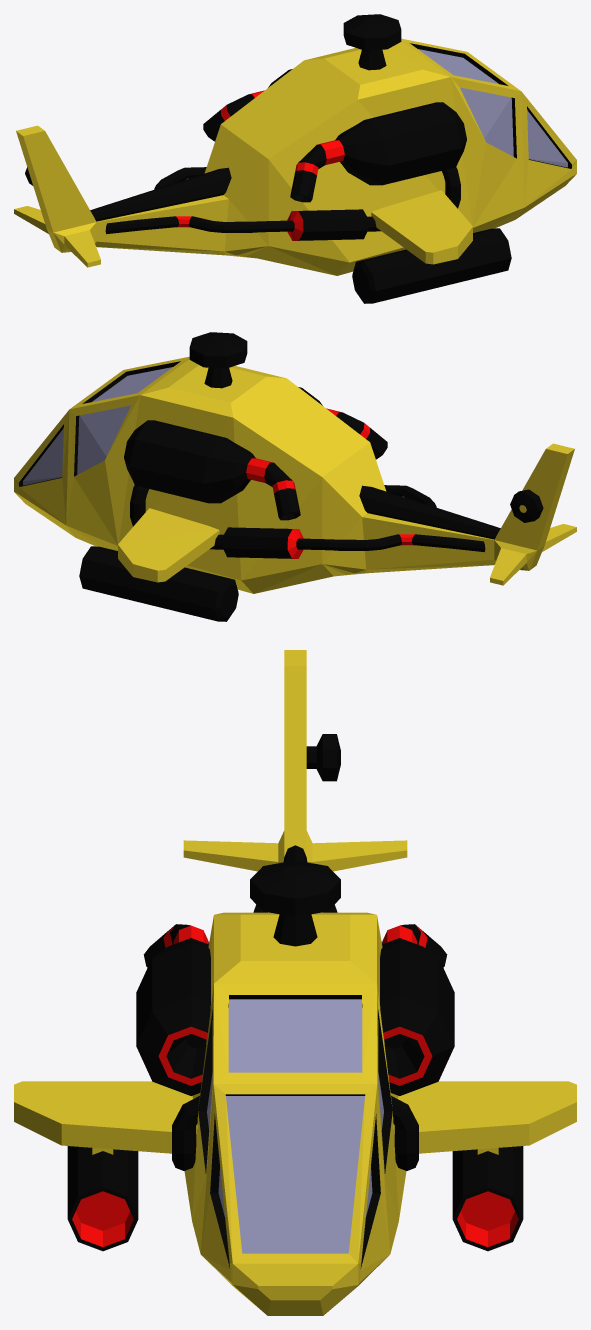
File: Helicopter.dae
The picture shows the model from 3 angles, top to bottom: view 1: azimuth 30°, elevation 25°; view 2: azimuth 150°, elevation 25°; view 3: azimuth 270°, elevation 25°; orthographic projection. The views are drawn at different scales.
Parts seen in each view (by area): view 1: Body, Cube, RotorHolder; view 2: Body, Cube, RotorHolder, tailRotorHolder; view 3: Body, Cube, RotorHolder, tailRotorHolder.
Part boxes in pixels (box(x1,y1,x2,y2)): Body: box(14, 38, 576, 275); Cube: box(352, 190, 511, 303); RotorHolder: box(343, 14, 401, 70); Body: box(14, 356, 576, 593); Cube: box(79, 508, 238, 621); RotorHolder: box(189, 332, 247, 388); tailRotorHolder: box(510, 489, 543, 522); Body: box(136, 650, 454, 1315); Cube: box(14, 1081, 576, 1251); RotorHolder: box(250, 860, 340, 946); tailRotorHolder: box(306, 734, 340, 781).
Bounding box in the file's own units: 7.78 × 4.61 × 3.01.
